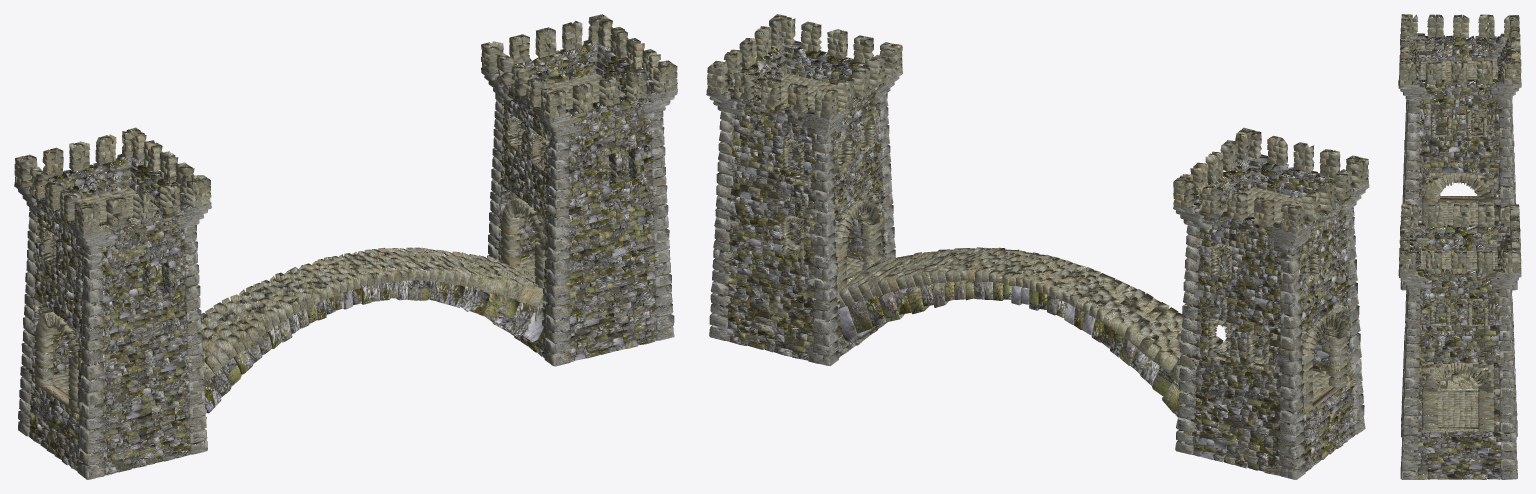
File: Muspelheim_Surt_Twin_Bridge.glb
3 views of the same model, side by side, from view 1: azimuth 30°, elevation 25°; view 2: azimuth 150°, elevation 25°; view 3: azimuth 270°, elevation 25° (orthographic). The views are drawn at different scales.
Visible parts, largest first — view 1: Object_20, Object_22, Object_27, Object_26, Object_24, Object_23, Object_21, Object_25, Object_5, Object_6, Object_11, Object_7 (+14 smaller); view 2: Object_27, Object_21, Object_25, Object_24, Object_23, Object_20, Object_26, Object_22, Object_5, Object_11, Object_8, Object_9 (+14 smaller); view 3: Object_27, Object_24, Object_20, Object_23, Object_26, Object_21, Object_22, Object_6, Object_2, Object_25, Object_10, Object_11 (+14 smaller).
Part boxes in pixels (left/top/right/bottom): Object_20: left=25, top=47, right=670, bottom=464; Object_22: left=22, top=49, right=669, bottom=469; Object_27: left=23, top=62, right=665, bottom=464; Object_26: left=20, top=44, right=667, bottom=479; Object_24: left=23, top=54, right=669, bottom=476; Object_23: left=27, top=54, right=661, bottom=475; Object_21: left=22, top=50, right=668, bottom=472; Object_25: left=29, top=45, right=670, bottom=472; Object_5: left=14, top=26, right=677, bottom=386; Object_6: left=18, top=18, right=671, bottom=378; Object_11: left=31, top=27, right=677, bottom=393; Object_7: left=18, top=15, right=677, bottom=393; Object_27: left=720, top=55, right=1357, bottom=468; Object_21: left=712, top=51, right=1357, bottom=471; Object_25: left=716, top=60, right=1360, bottom=475; Object_24: left=718, top=47, right=1362, bottom=462; Object_23: left=715, top=55, right=1358, bottom=471; Object_20: left=718, top=46, right=1352, bottom=469; Object_26: left=712, top=61, right=1361, bottom=470; Object_22: left=717, top=46, right=1362, bottom=469; Object_5: left=707, top=16, right=1367, bottom=412; Object_11: left=707, top=14, right=1362, bottom=386; Object_8: left=707, top=18, right=1368, bottom=405; Object_9: left=707, top=36, right=1368, bottom=383; Object_27: left=1404, top=35, right=1515, bottom=472; Object_24: left=1403, top=36, right=1515, bottom=474; Object_20: left=1402, top=39, right=1516, bottom=479; Object_23: left=1403, top=36, right=1516, bottom=468; Object_26: left=1402, top=37, right=1515, bottom=479; Object_21: left=1402, top=51, right=1516, bottom=479; Object_22: left=1402, top=35, right=1516, bottom=479; Object_6: left=1399, top=22, right=1520, bottom=432; Object_2: left=1399, top=14, right=1521, bottom=430; Object_25: left=1403, top=41, right=1516, bottom=479; Object_10: left=1399, top=14, right=1521, bottom=422; Object_11: left=1399, top=23, right=1521, bottom=424.
Bounding box in the file's own units: 28.59 × 12.49 × 6.17.
26 materials, 26 textured.
